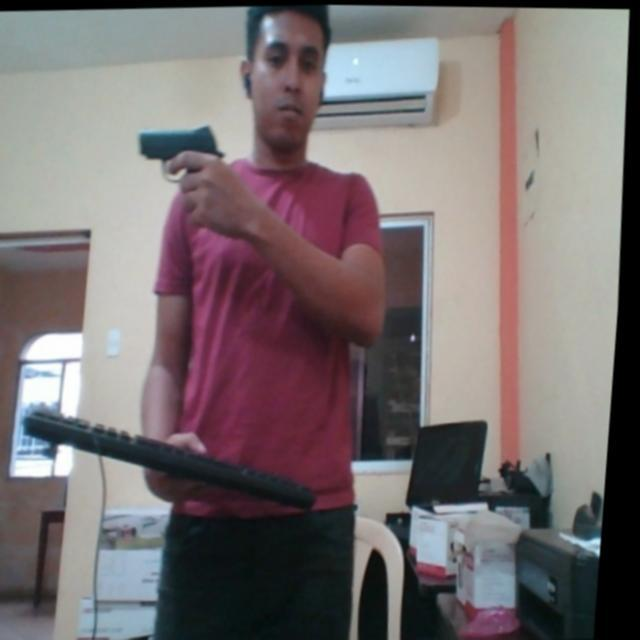weapon: (131, 119, 230, 198)
